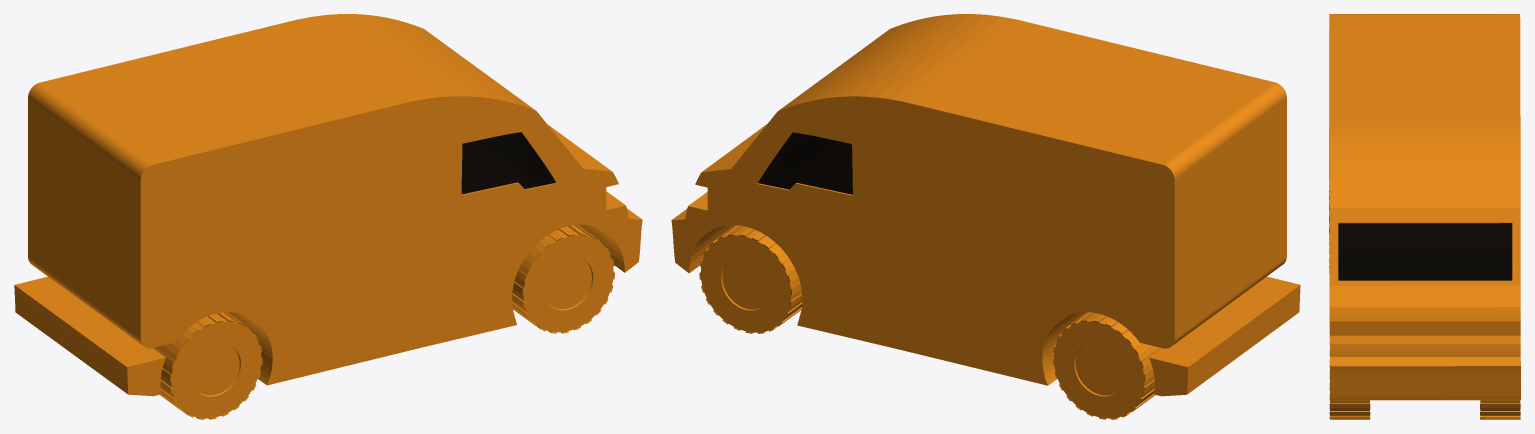
Rendered from INCONOGRAPHY_source_v5.glb.
The picture shows the model from 3 angles, left to right: view 1: azimuth 30°, elevation 25°; view 2: azimuth 150°, elevation 25°; view 3: azimuth 270°, elevation 25°; orthographic projection. The views are drawn at different scales.
Visible parts, largest first — view 1: van, vanWheel_1, vanWheel_2, van_windows_1; view 2: van, vanWheel_3, vanWheel_4, van_windows_1; view 3: van, van_windows_1, vanWheel_2, vanWheel_4.
Boxes of the visible parts, box(x1,y1,x2,y2) form: van: box(14, 14, 642, 396); vanWheel_1: box(153, 312, 262, 419); vanWheel_2: box(512, 224, 614, 333); van_windows_1: box(461, 132, 555, 194); van: box(671, 14, 1300, 396); vanWheel_3: box(1052, 312, 1161, 419); vanWheel_4: box(699, 225, 802, 333); van_windows_1: box(758, 132, 852, 194); van: box(1329, 14, 1520, 400); van_windows_1: box(1338, 223, 1512, 280); vanWheel_2: box(1329, 329, 1370, 419); vanWheel_4: box(1480, 400, 1520, 419).
Size of what is drawn, in the model's own units: 0.9976 by 0.4974 by 0.3785.
